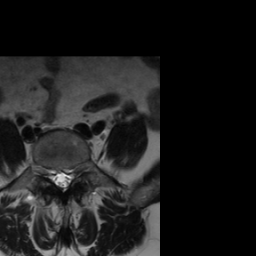CCS_normal: (58, 162, 65, 197)
LFS_normal: (72, 159, 79, 183)
LLS_normal: (65, 163, 72, 192)
RFS_normal: (43, 159, 50, 188)
RLS_normal: (50, 162, 58, 191)
